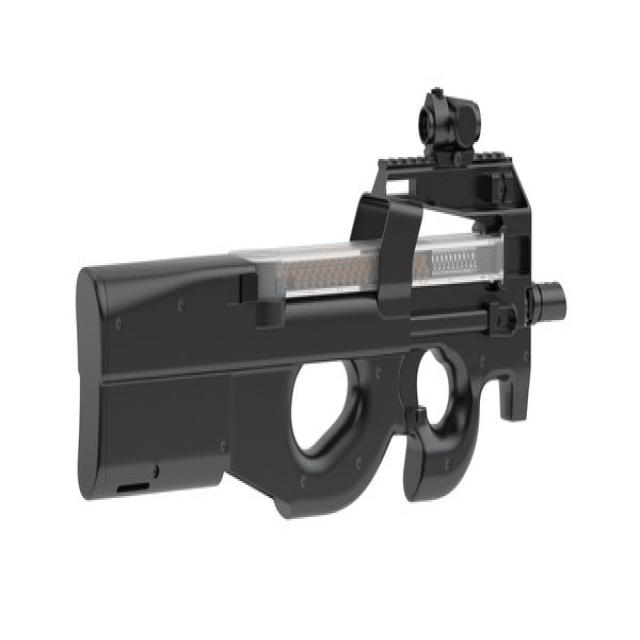SMG: (75, 89, 567, 523)
